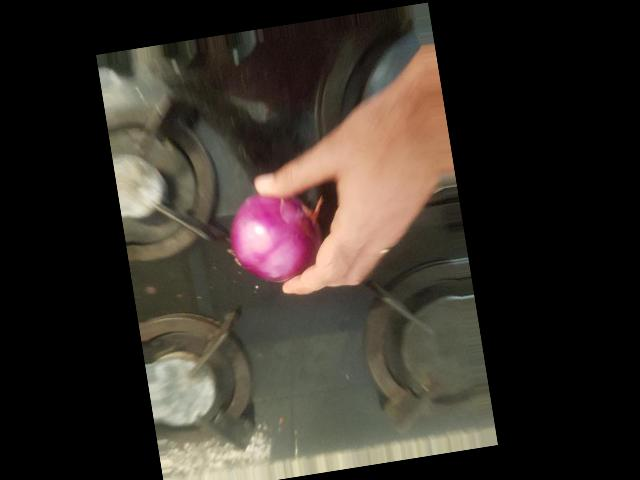onion: (196, 282, 291, 378)
